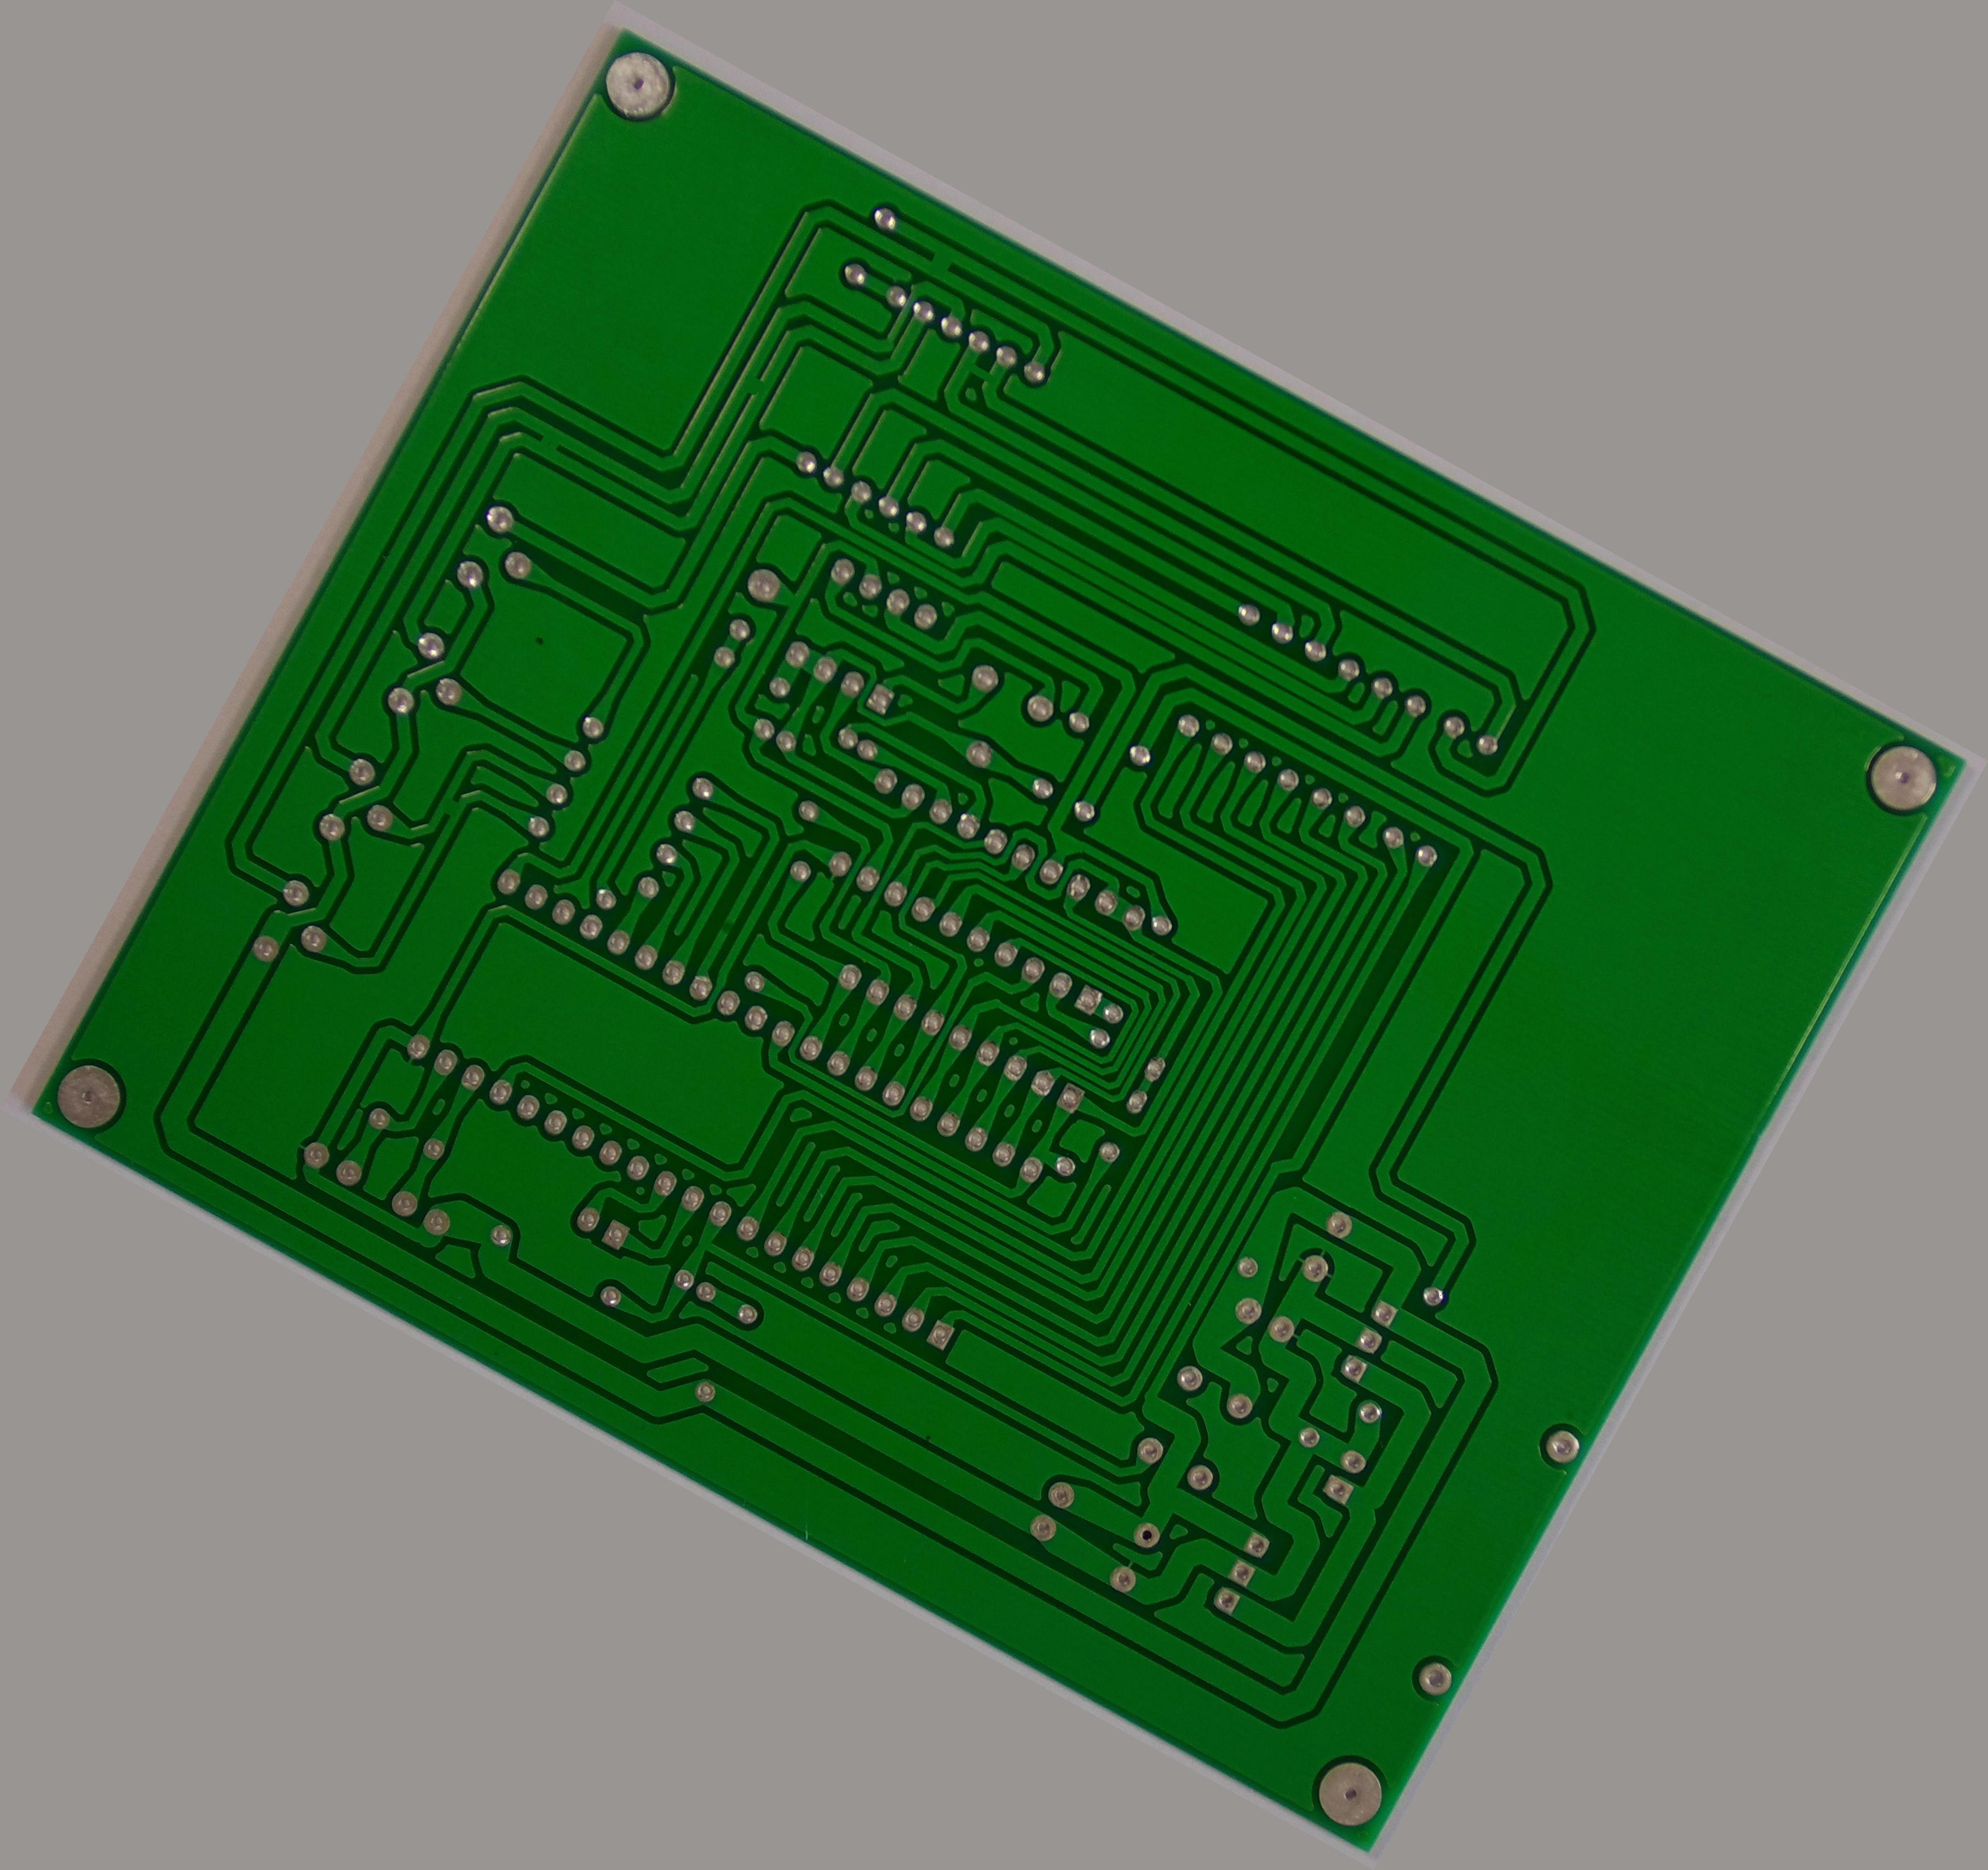short: (522, 413, 577, 471), (728, 359, 780, 411), (916, 236, 969, 288), (951, 352, 1004, 397), (431, 787, 471, 828)
